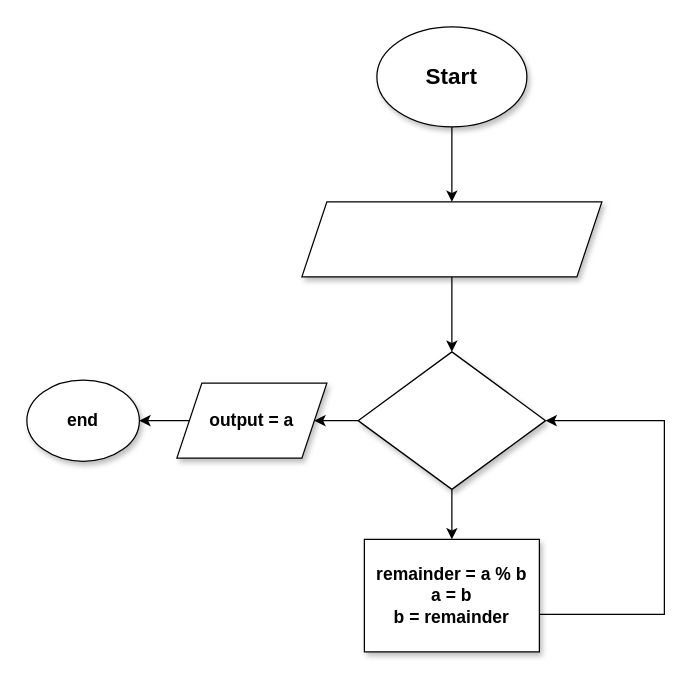
The diagram is 696 pixels wide and 683 high, and some of its shapes have lost their labels. The centre of each missing label's shape, as x and y in pixels:
"b != 0" goes at (x=452, y=422).
"Input 2 integers a, b" goes at (x=452, y=241).
